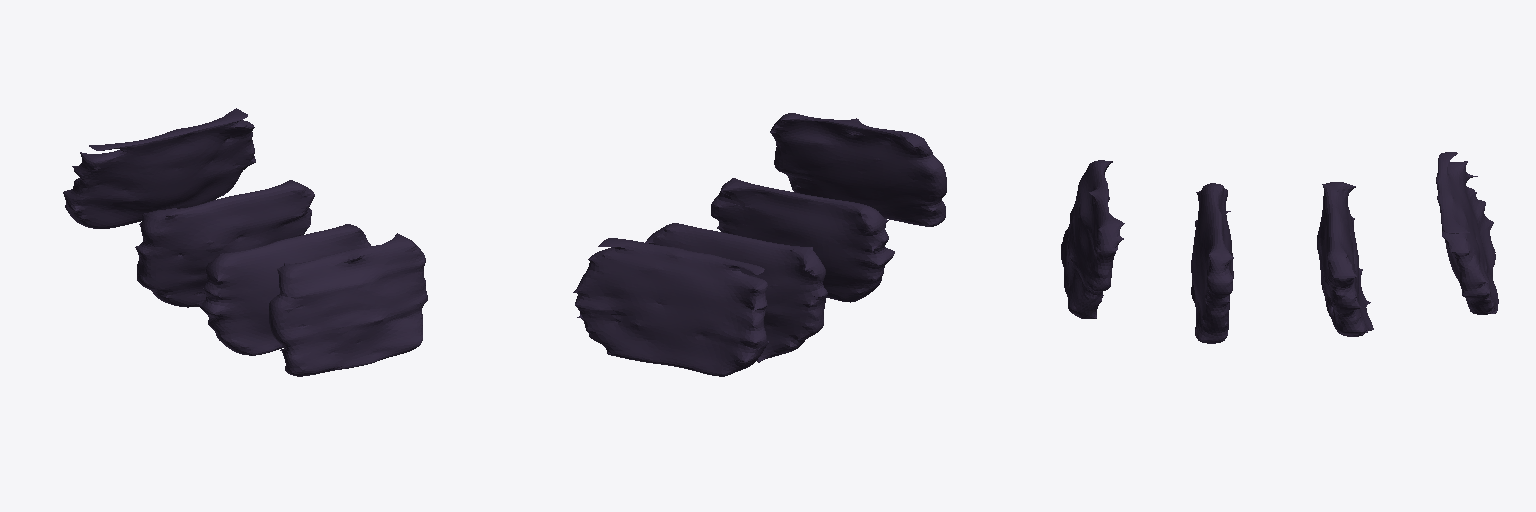
Rendered from Segmentation.obj.
3 renders of one model, left to right at view 1: azimuth 30°, elevation 25°; view 2: azimuth 150°, elevation 25°; view 3: azimuth 270°, elevation 25°, orthographic.
Visible parts, largest first — view 1: grp1; view 2: grp1; view 3: grp1.
Part boxes in pixels (x1,y1,x2,y2): grp1: (63, 108, 427, 376); grp1: (573, 113, 946, 376); grp1: (1061, 152, 1498, 343).
Size of the model in its own units: 54.88 by 38.9 by 112.